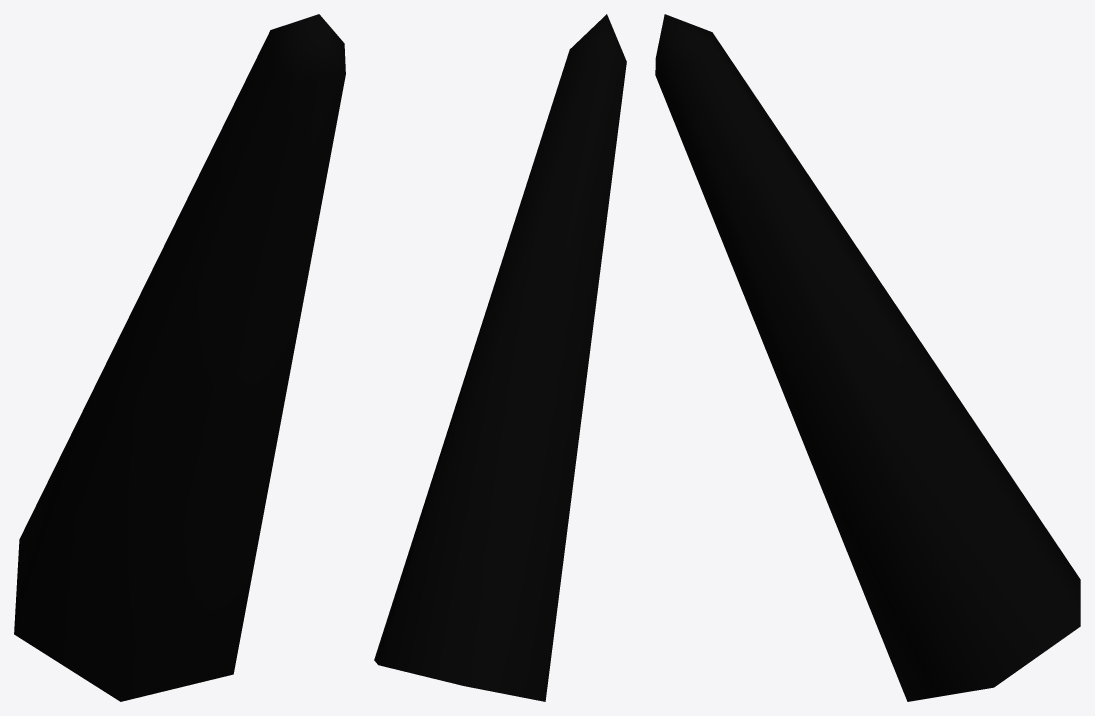
Rendered from Horse_horn.fbx.
3 views of the same model, side by side, from view 1: azimuth 30°, elevation 25°; view 2: azimuth 150°, elevation 25°; view 3: azimuth 270°, elevation 25° (orthographic). The views are drawn at different scales.
Visible parts, largest first — view 1: Horse_horn_01; view 2: Horse_horn_01; view 3: Horse_horn_01.
Boxes of the visible parts, bbox=[...] form: Horse_horn_01: bbox=[14, 14, 345, 701]; Horse_horn_01: bbox=[374, 14, 626, 701]; Horse_horn_01: bbox=[655, 14, 1080, 701].
Size of the model in its own units: 12.32 by 40.74 by 23.63.
